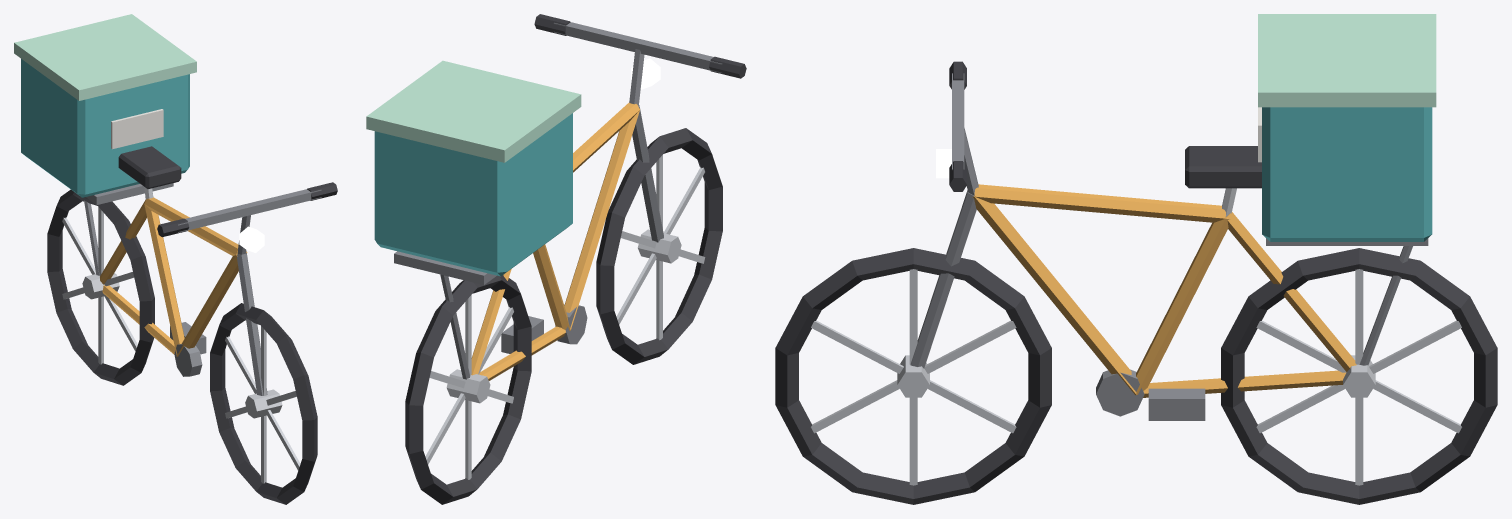
File: prop_delivery_bike_01.glb
3 views of the same model, side by side, from view 1: azimuth 30°, elevation 25°; view 2: azimuth 150°, elevation 25°; view 3: azimuth 270°, elevation 25° (orthographic). The views are drawn at different scales.
Parts seen in each view (by area): view 1: prop_delivery_bike_01_body; view 2: prop_delivery_bike_01_body; view 3: prop_delivery_bike_01_body.
Boxes of the visible parts, x1,y1,x2,y2 form: prop_delivery_bike_01_body: (14,14,337,504); prop_delivery_bike_01_body: (366,14,746,504); prop_delivery_bike_01_body: (775,14,1497,504).
Bounding box in the file's own units: 0.68 × 1.23 × 1.78.
